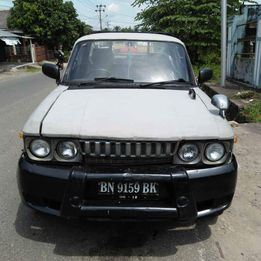plate: (92, 178, 162, 203)
